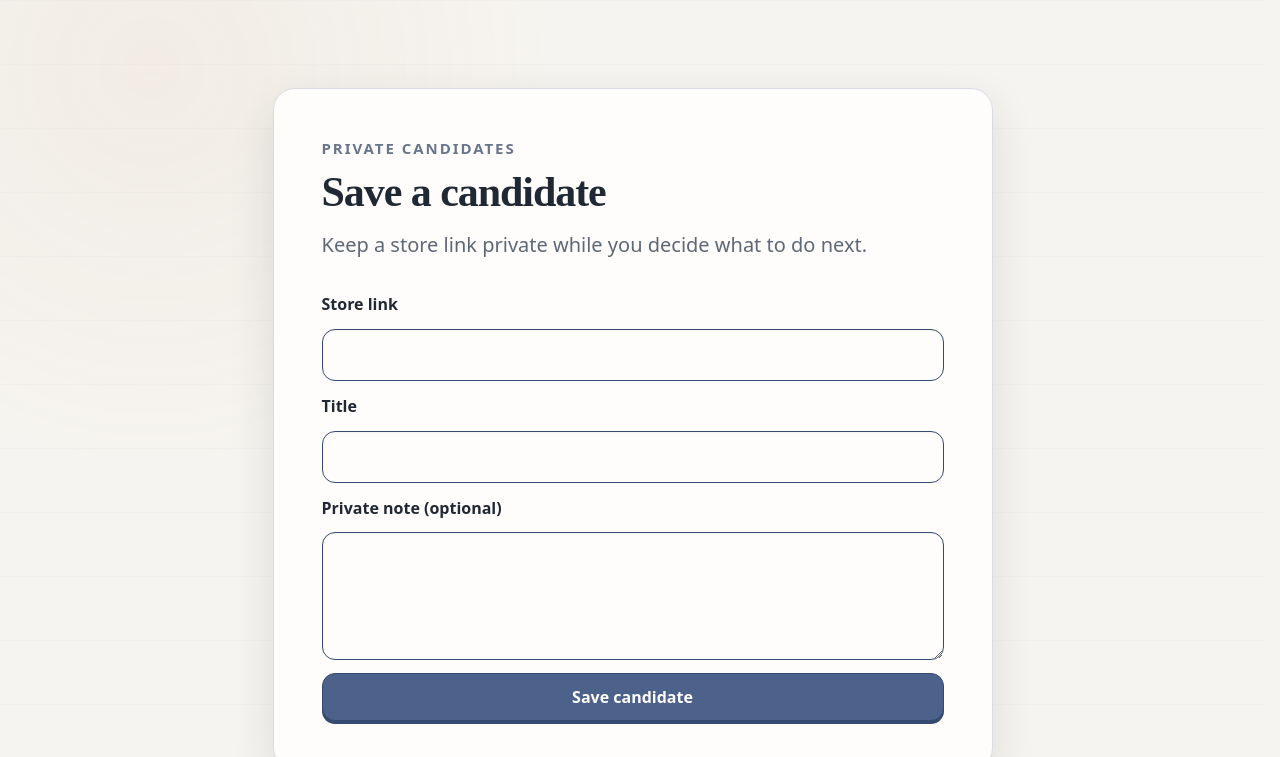
Test: candidate private routes › preserves the submitted link and note when extraction requires manual fallback
Type "https://internal.example/find" into the field labelled "Store link" at (632, 355), box [322,329,944,381]
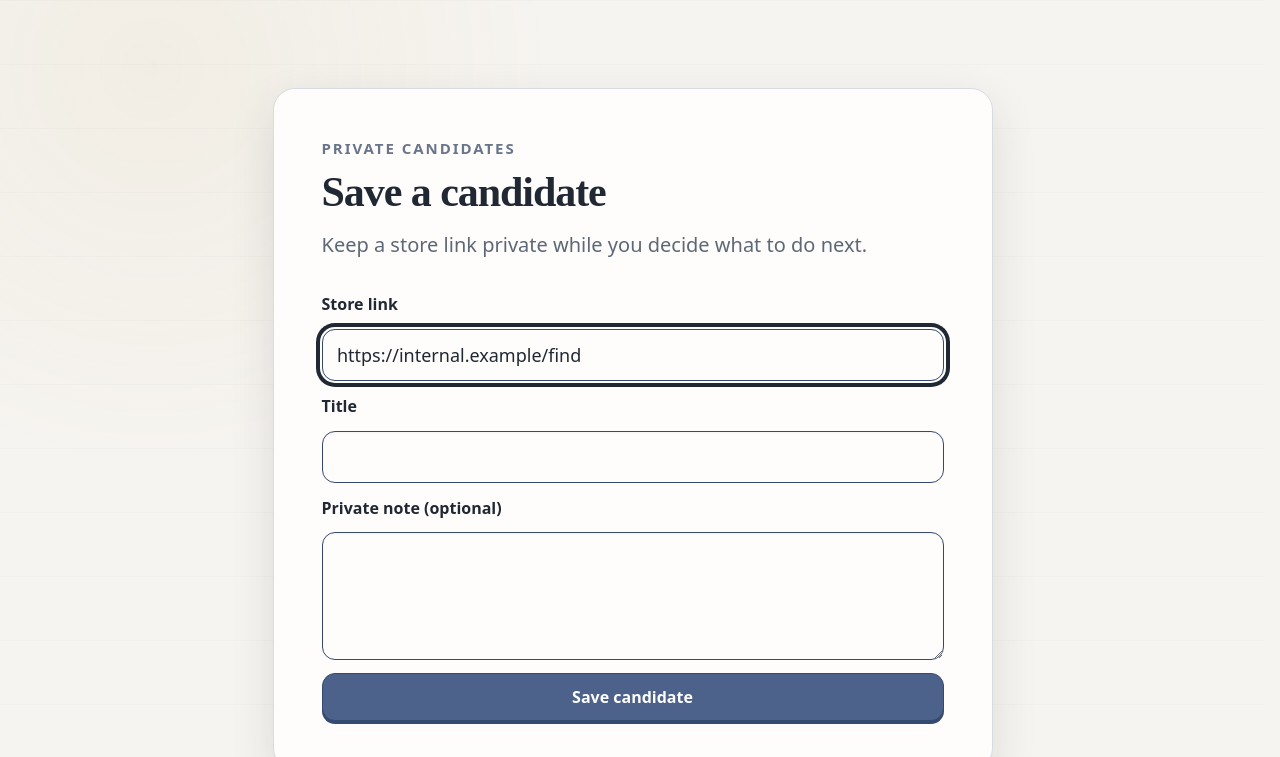
Type "Manual lead" into the field labelled "Title" at (632, 457), box [322,431,944,483]
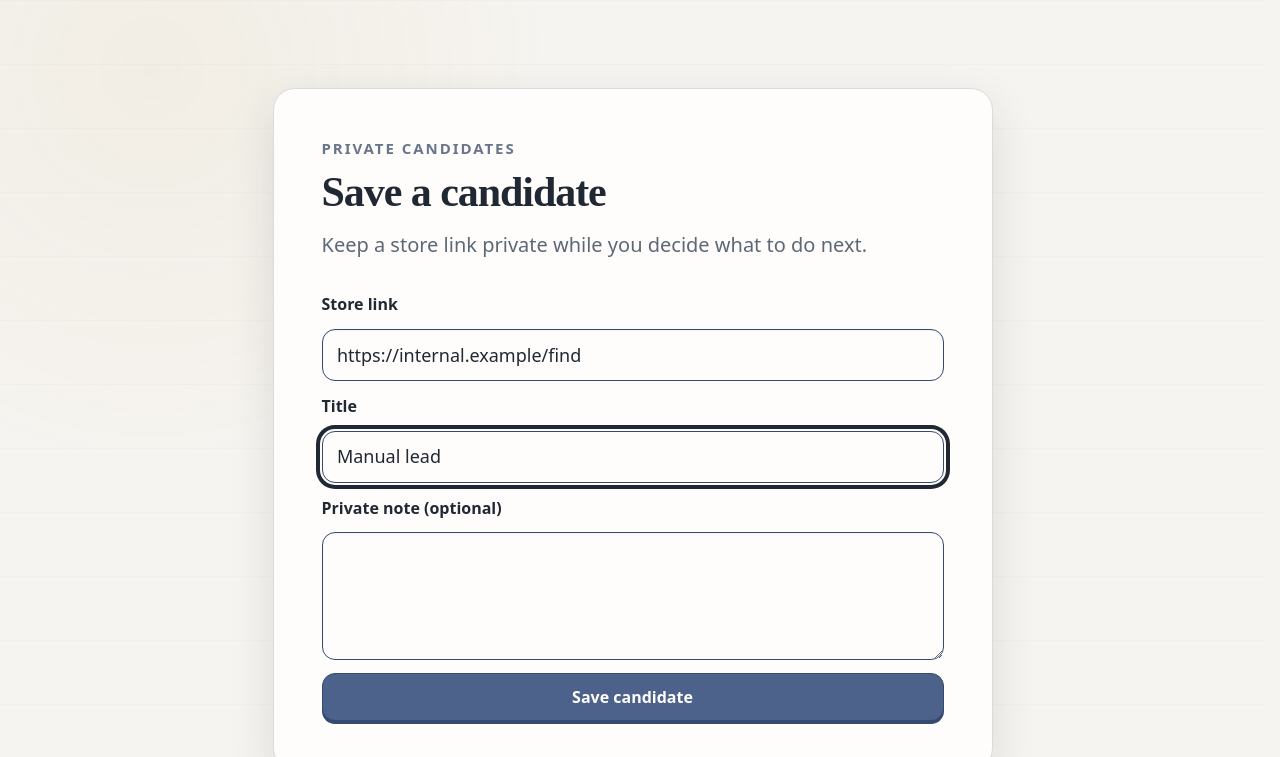
Type "Call before visiting" into the text box labelled "Private note (optional)" at (632, 596), box [322,532,944,660]
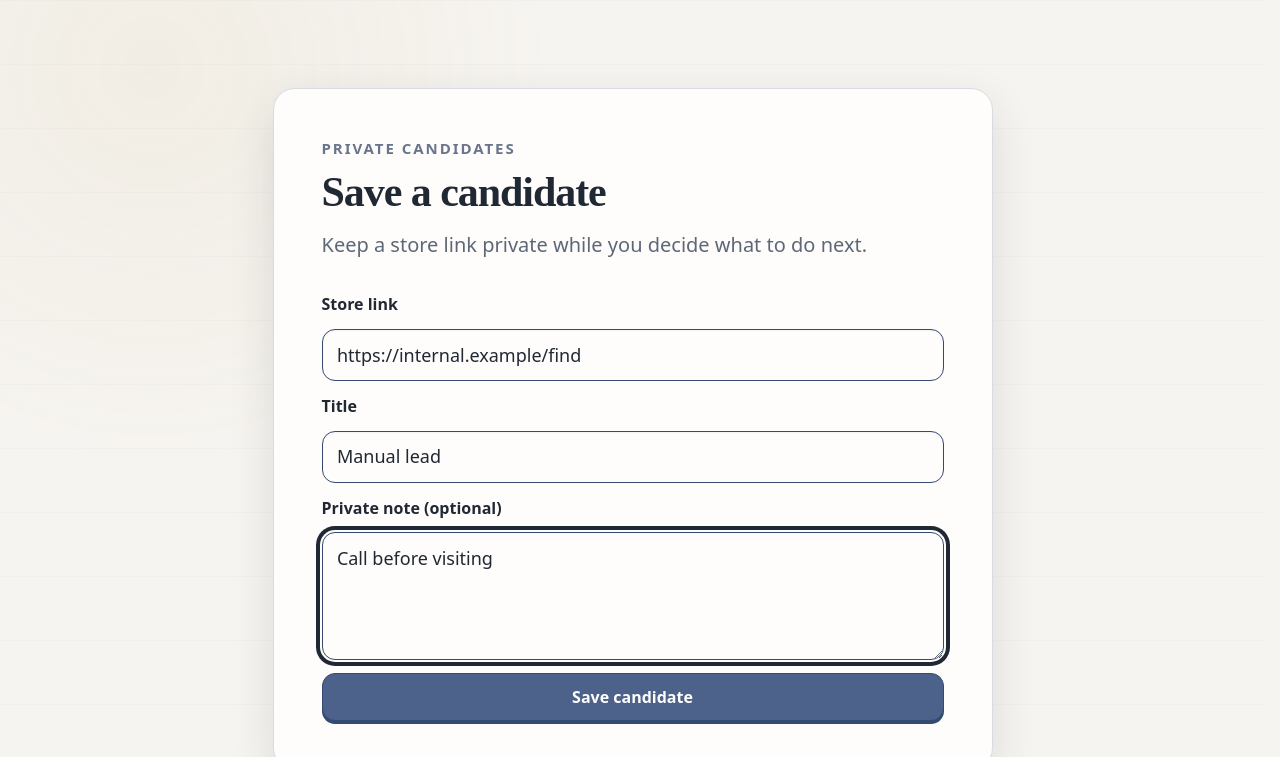
Click the button "Save candidate" at (632, 697), box [322,673,944,721]
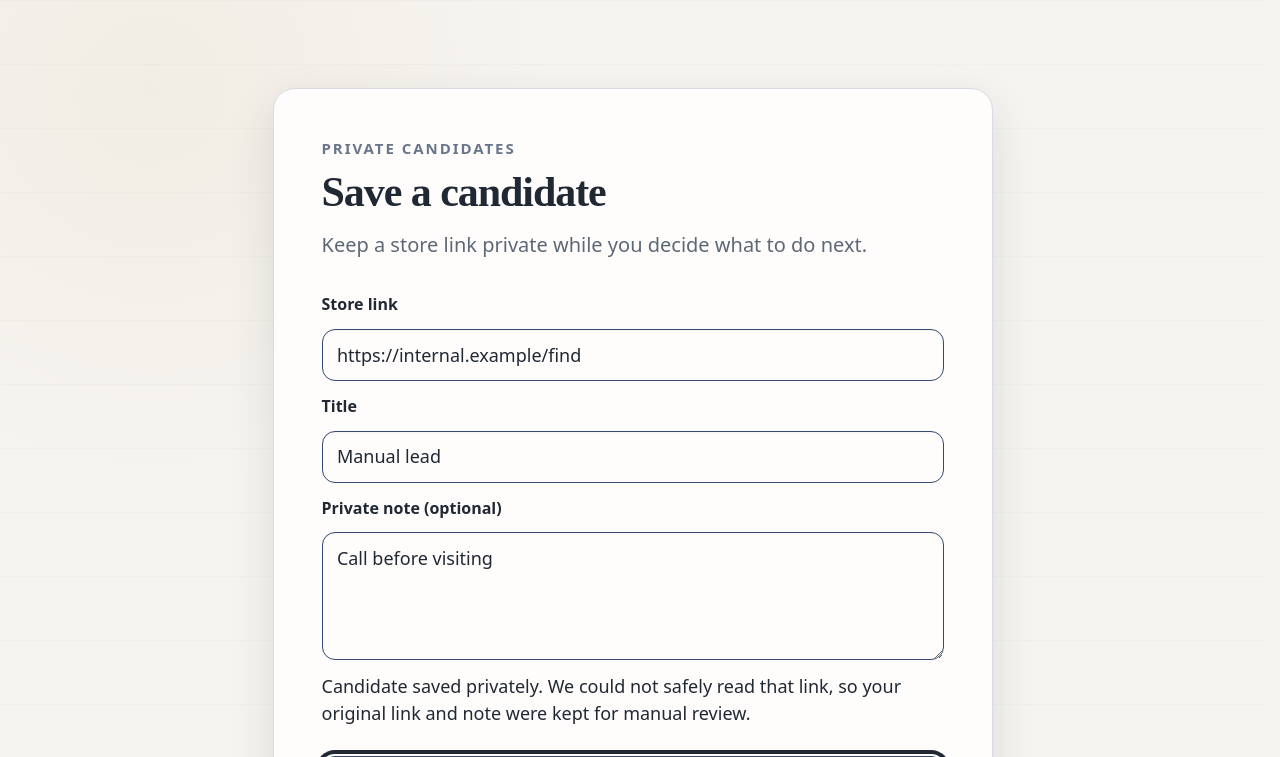
Now the text "could not safely read that link" is shown, box [322,674,901,725]
